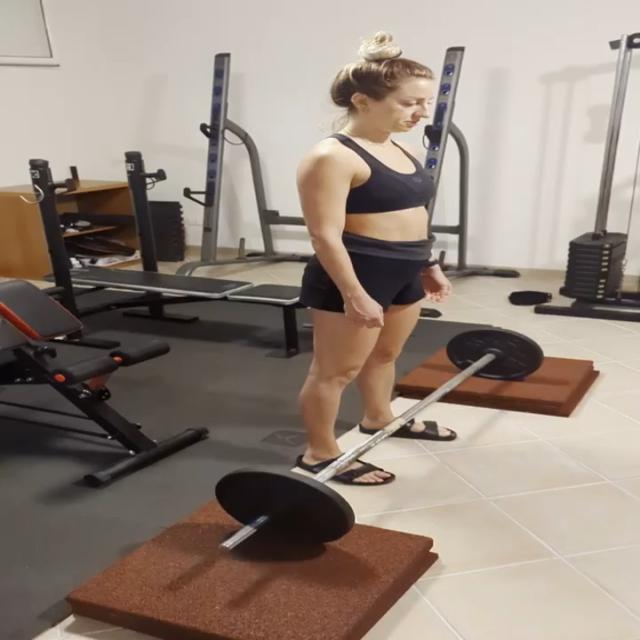barbell: (206, 466, 359, 563)
